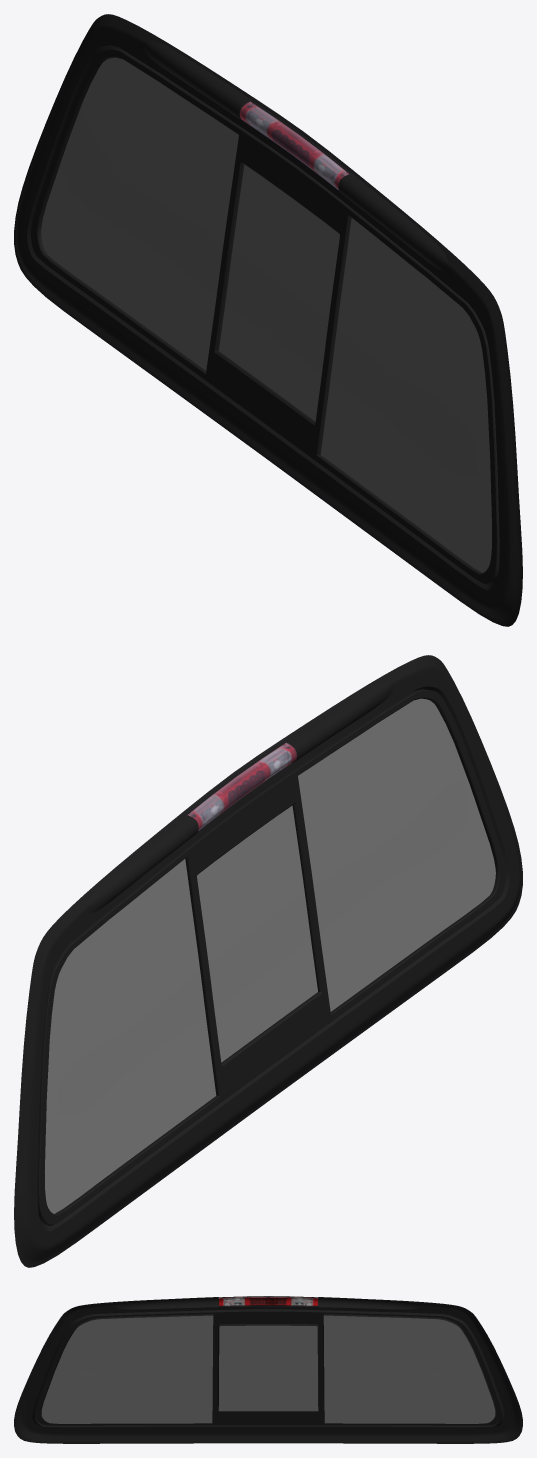
3 renders of one model, top to bottom at view 1: azimuth 30°, elevation 25°; view 2: azimuth 150°, elevation 25°; view 3: azimuth 270°, elevation 25°, orthographic. The views are drawn at different scales.
Parts seen in each view (by area): view 1: P815_365B_C_P815_365B_C_4_DTaSI, P815_365B_C_P815_365B_C_3_D, P815_365B_C_P815_365B_C_2_DTaSI, P815_365B_C_1_N_P815_365B_C; view 2: P815_365B_C_P815_365B_C_4_DTaSI, P815_365B_C_P815_365B_C_3_D, P815_365B_C_P815_365B_C_2_DTaSI, P815_365B_C_1_N_P815_365B_C; view 3: P815_365B_C_P815_365B_C_4_DTaSI, P815_365B_C_P815_365B_C_3_D, P815_365B_C_1_N_P815_365B_C.
Boxes of the visible parts, x1,y1,x2,y2 form: P815_365B_C_P815_365B_C_4_DTaSI: (41, 57, 492, 572); P815_365B_C_P815_365B_C_3_D: (14, 14, 522, 626); P815_365B_C_P815_365B_C_2_DTaSI: (240, 101, 348, 189); P815_365B_C_1_N_P815_365B_C: (240, 101, 349, 189); P815_365B_C_P815_365B_C_4_DTaSI: (44, 698, 495, 1213); P815_365B_C_P815_365B_C_3_D: (14, 655, 522, 1267); P815_365B_C_P815_365B_C_2_DTaSI: (188, 742, 296, 830); P815_365B_C_1_N_P815_365B_C: (187, 742, 296, 830); P815_365B_C_P815_365B_C_4_DTaSI: (41, 1315, 495, 1423); P815_365B_C_P815_365B_C_3_D: (14, 1296, 522, 1443); P815_365B_C_1_N_P815_365B_C: (218, 1297, 318, 1305).
Bounding box in the file's own units: 9.1 × 59.33 × 173.
